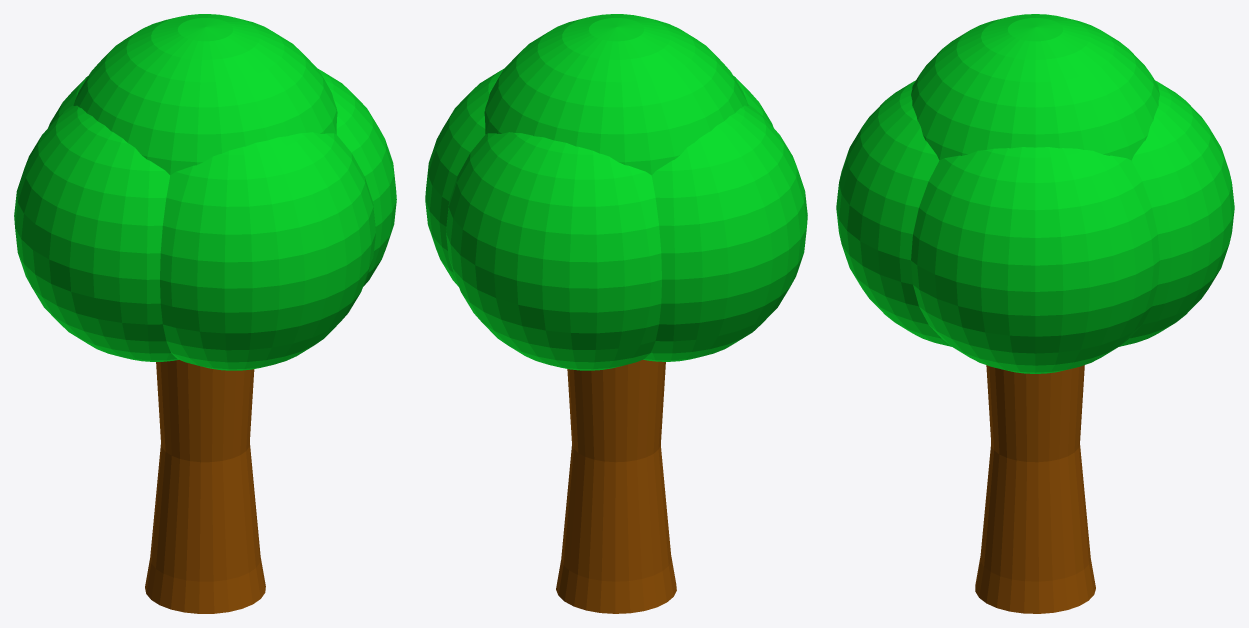
File: Tree.fbx
The picture shows the model from 3 angles, left to right: view 1: azimuth 30°, elevation 25°; view 2: azimuth 150°, elevation 25°; view 3: azimuth 270°, elevation 25°; orthographic projection.
Visible parts, largest first — view 1: Cylinder; view 2: Cylinder; view 3: Cylinder.
Part boxes in pixels (left/top/right/bottom): Cylinder: left=14, top=14, right=396, bottom=613; Cylinder: left=425, top=14, right=807, bottom=613; Cylinder: left=836, top=14, right=1234, bottom=613.
Size of the model in its own units: 280 by 435 by 280.
